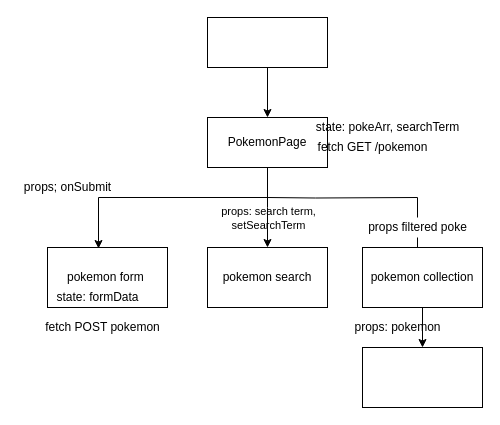
Image size: 500x425. Some labels were removed from this diagram. Each missing label, with the centre of its shape:
app: (267,42)
pokemon card: (422,377)
